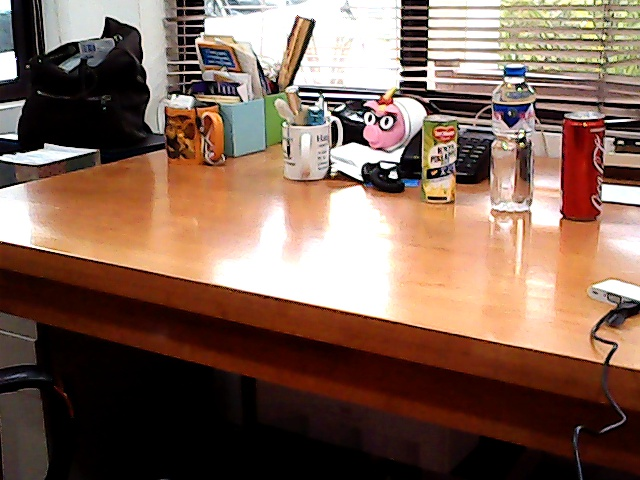Cola: (551, 107, 619, 228)
Pine Juice: (414, 111, 467, 212)
Summit Water: (478, 60, 546, 219)
